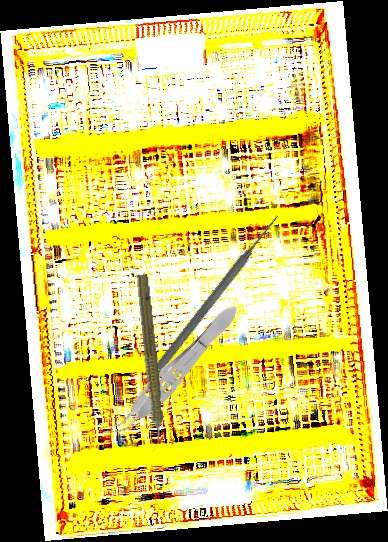Handpiece: (129, 273, 170, 453)
Pusher: (153, 212, 283, 373)
Tissue Forceps: (97, 296, 247, 450)
